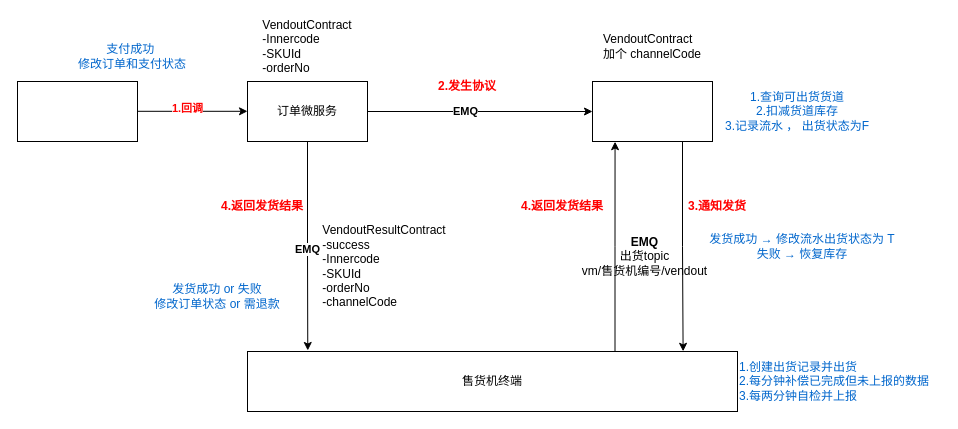
Image size: 958x429. Some labels were removed from this diagram. The centre of each missing label's shape, as x and y in pixels:
售货机微服务: (x=652, y=111)
支付: (x=77, y=111)
